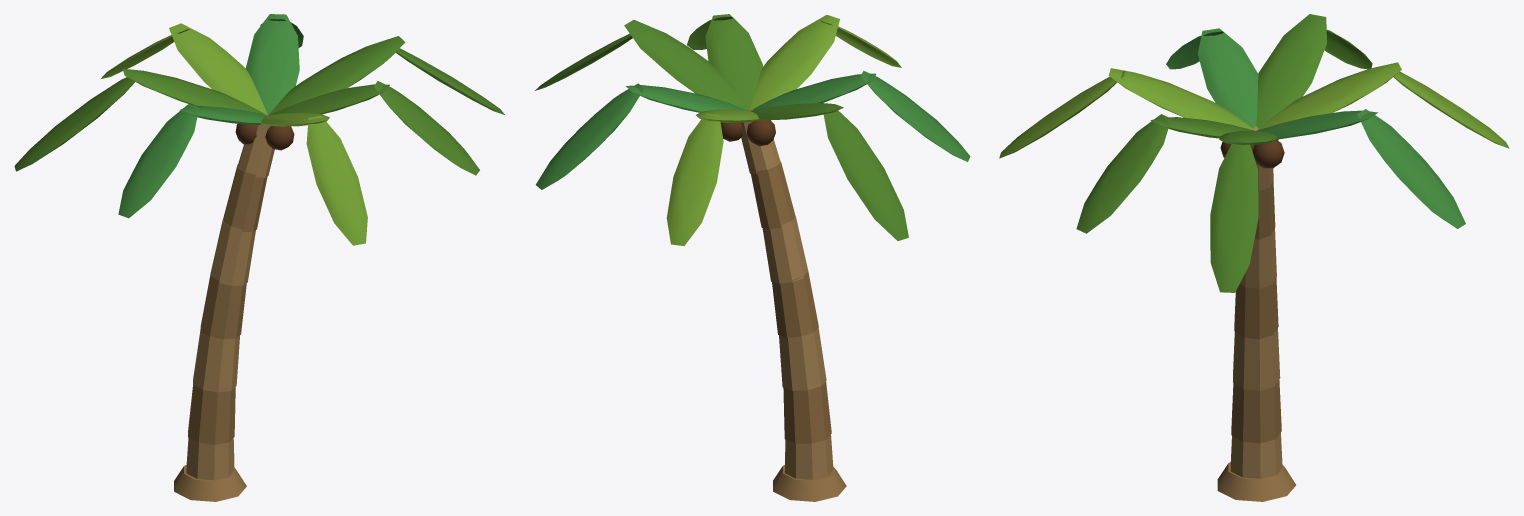
File: p_tree_palm_1.glb
3 renders of one model, left to right at view 1: azimuth 30°, elevation 25°; view 2: azimuth 150°, elevation 25°; view 3: azimuth 270°, elevation 25°, orthographic. The views are drawn at different scales.
Visible parts, largest first — view 1: body; view 2: body; view 3: body.
Boxes of the visible parts, x1,y1,x2,y2 form: body: (14, 14, 504, 501); body: (535, 14, 970, 501); body: (999, 14, 1509, 501).
Bounding box in the file's own units: 6.56 × 5.99 × 6.29.
